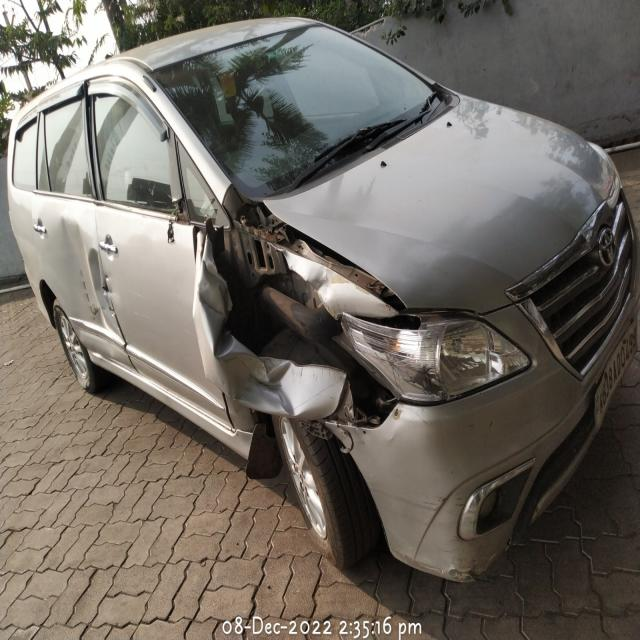damage: (190, 199, 411, 443), (62, 212, 118, 335), (165, 196, 194, 245), (443, 559, 486, 587)
